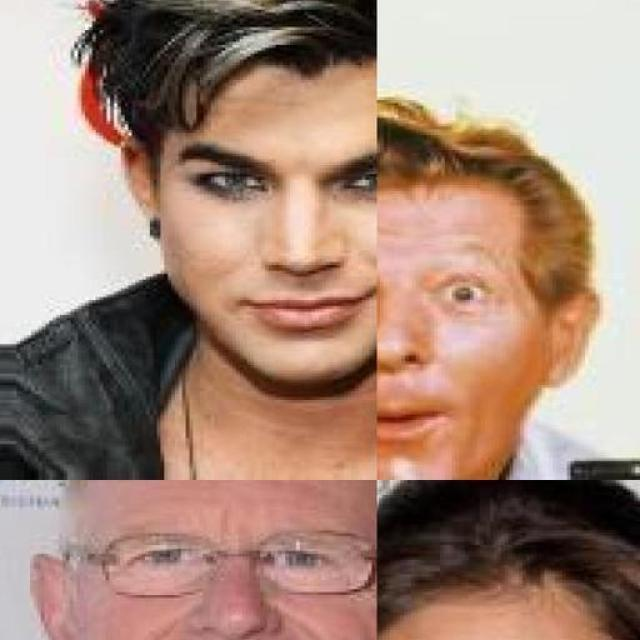bareface: (156, 24, 384, 382)
